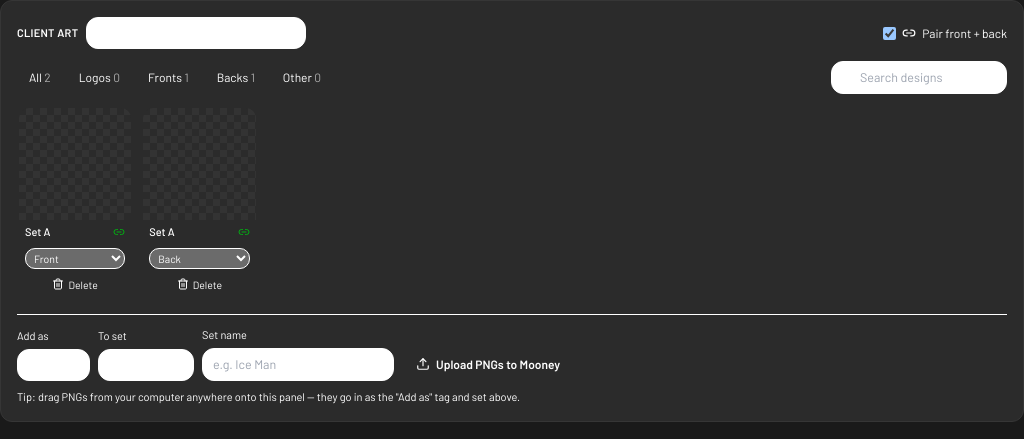
Test: ArtLibraryPanel files › only unlinks Drive files
Click the 2nd button "Delete" at (199, 284), box [149,274,250,294]
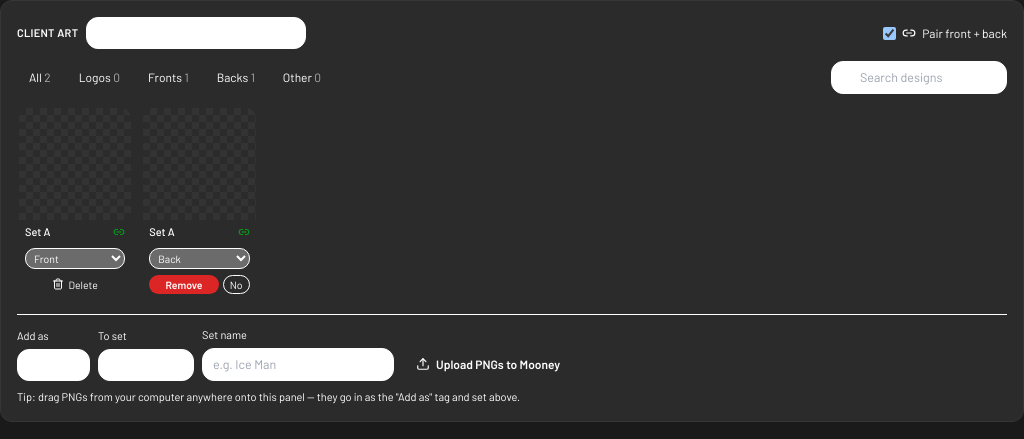
Expected: the button "Remove" is shown, [149,274,219,294]
